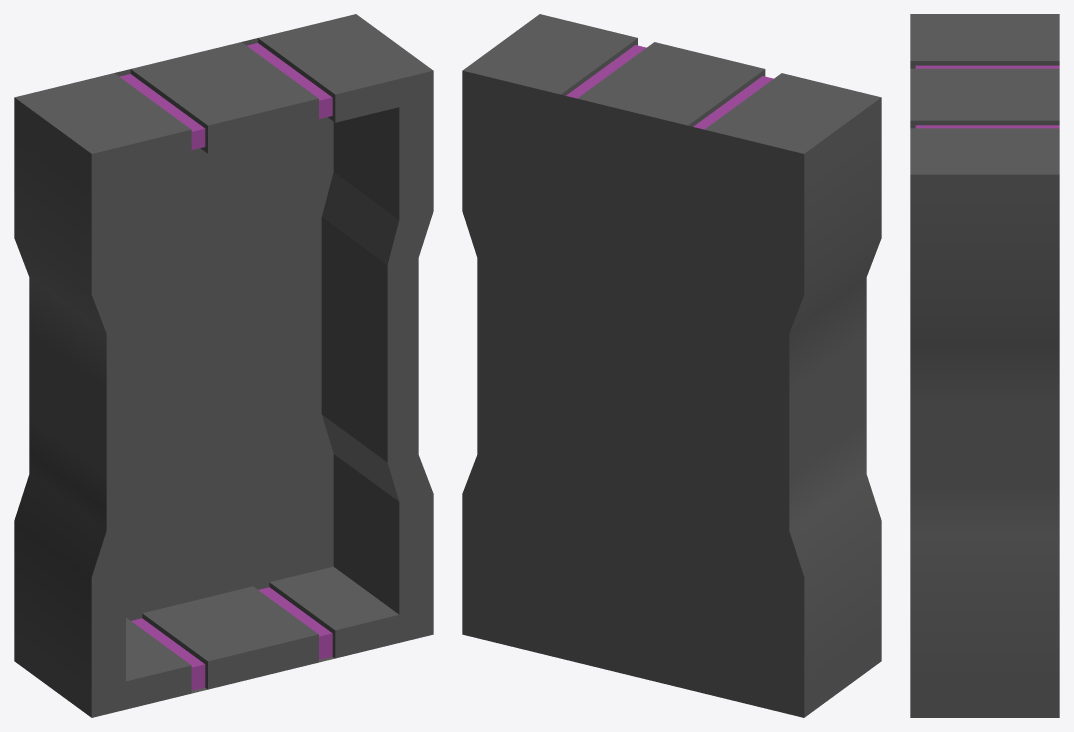
File: Armoire.fbx
3 views of the same model, side by side, from view 1: azimuth 30°, elevation 25°; view 2: azimuth 150°, elevation 25°; view 3: azimuth 270°, elevation 25° (orthographic). The views are drawn at different scales.
Parts seen in each view (by area): view 1: pCube6; view 2: pCube6; view 3: pCube6.
Boxes of the visible parts, left/top/right/bottom form: pCube6: left=14, top=14, right=433, bottom=717; pCube6: left=462, top=14, right=881, bottom=717; pCube6: left=910, top=14, right=1059, bottom=717.
Bounding box in the file's own units: 7.29 × 11.5 × 2.86.
